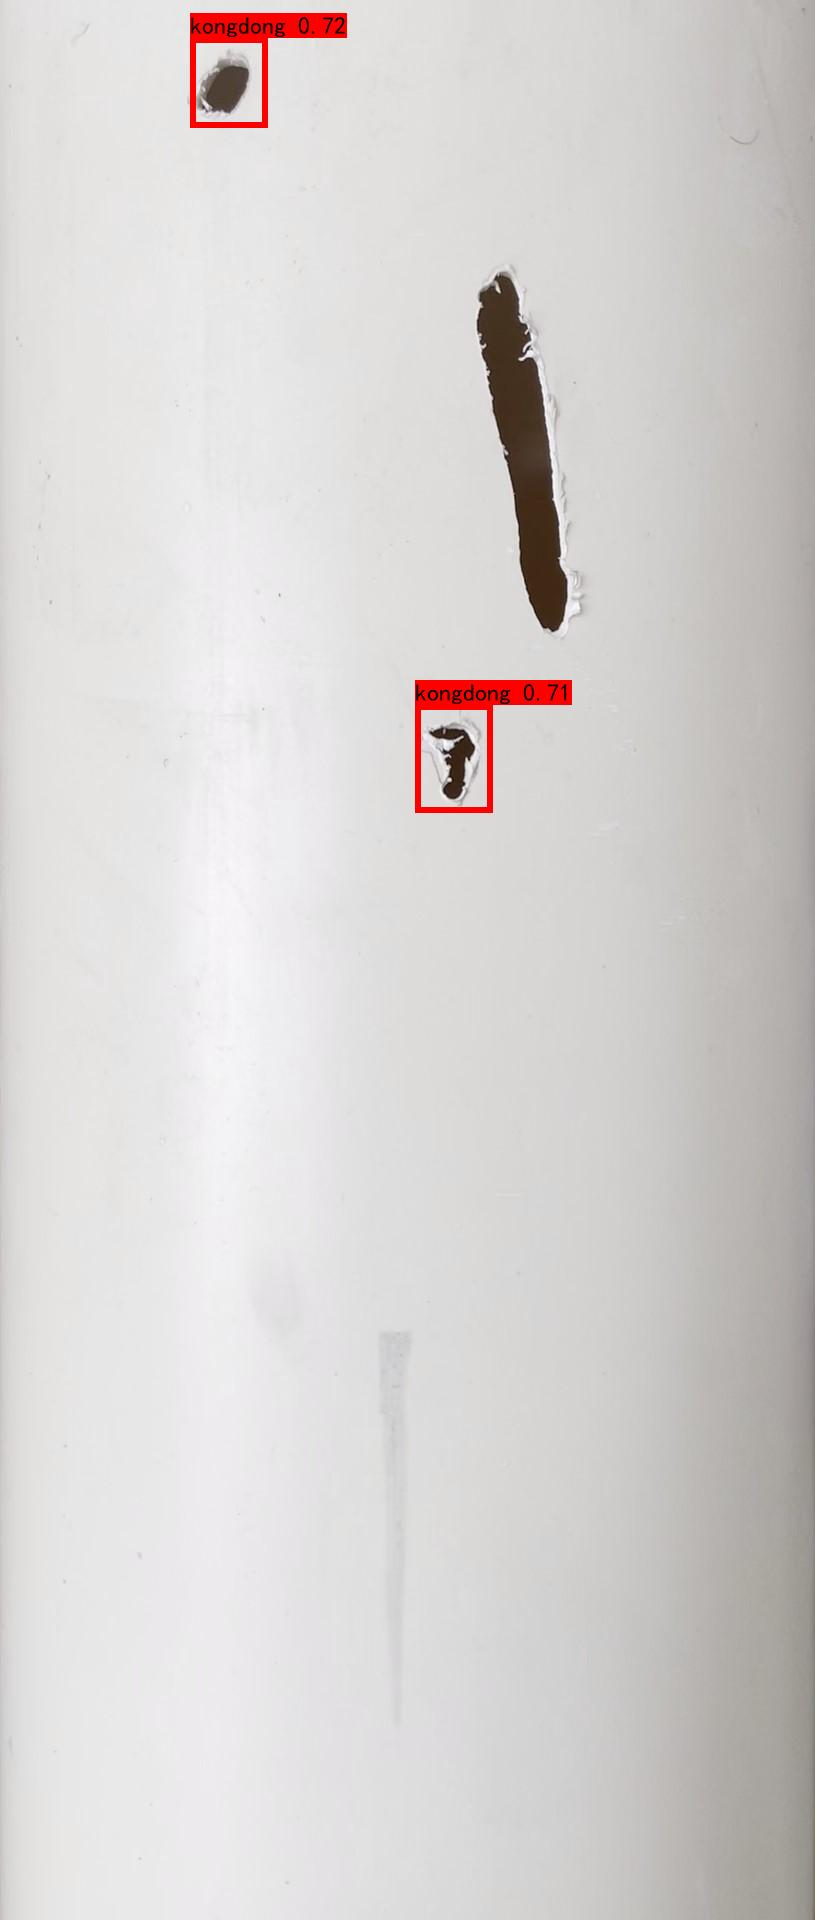fengxi: (466, 256, 586, 645)
kongdong: (419, 708, 480, 811), (188, 47, 255, 129)
